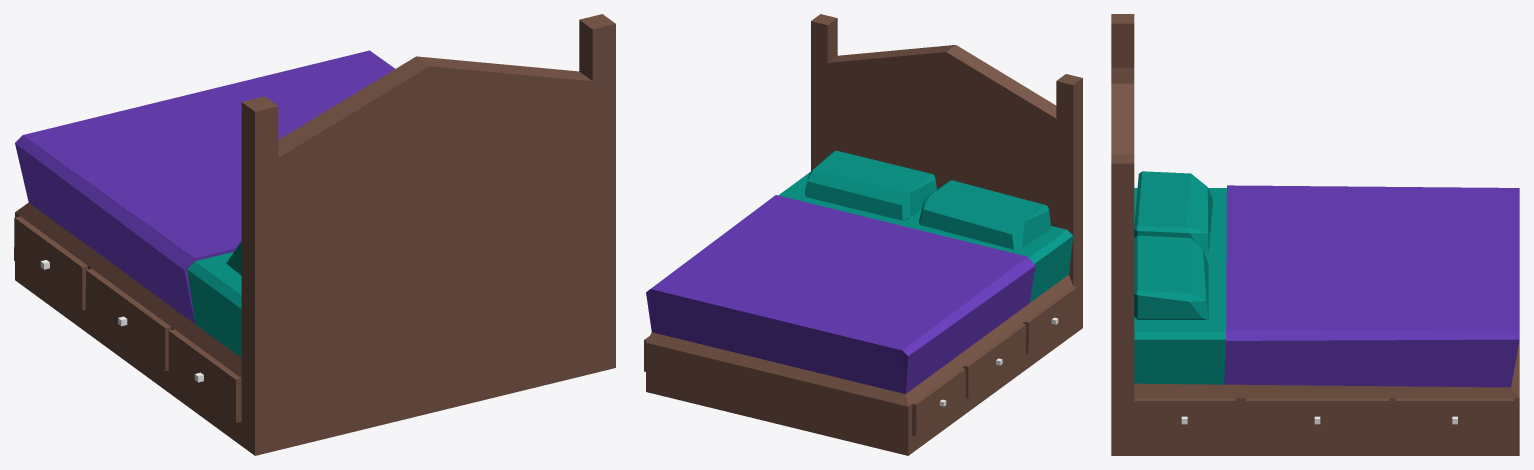
File: bed-by-sirkitree-4u1IJfWsGnb.glb
3 views of the same model, side by side, from view 1: azimuth 30°, elevation 25°; view 2: azimuth 150°, elevation 25°; view 3: azimuth 270°, elevation 25° (orthographic). The views are drawn at different scales.
Parts seen in each view (by area): view 1: group2092540418, group63570314, group591677075, group682826594; view 2: group63570314, group2092540418, group503190328, group1052566107, group591677075, group682826594; view 3: group63570314, group682826594, group503190328, group1052566107, group2092540418, group591677075.
Part boxes in pixels (x1,y1,x2,y2): group2092540418: [278, 56, 592, 450]; group63570314: [14, 50, 394, 445]; group591677075: [241, 96, 278, 455]; group682826594: [579, 14, 615, 373]; group63570314: [644, 172, 1077, 455]; group2092540418: [827, 45, 1056, 226]; group503190328: [805, 150, 936, 220]; group1052566107: [919, 180, 1051, 249]; group591677075: [1056, 74, 1082, 334]; group682826594: [811, 14, 837, 170]; group63570314: [1134, 185, 1519, 455]; group682826594: [1111, 154, 1134, 455]; group503190328: [1134, 235, 1208, 319]; group1052566107: [1134, 171, 1212, 255]; group2092540418: [1111, 67, 1134, 153]; group591677075: [1111, 14, 1134, 67].
Size of the model in its own units: 1.32 by 1.14 by 1.43.
